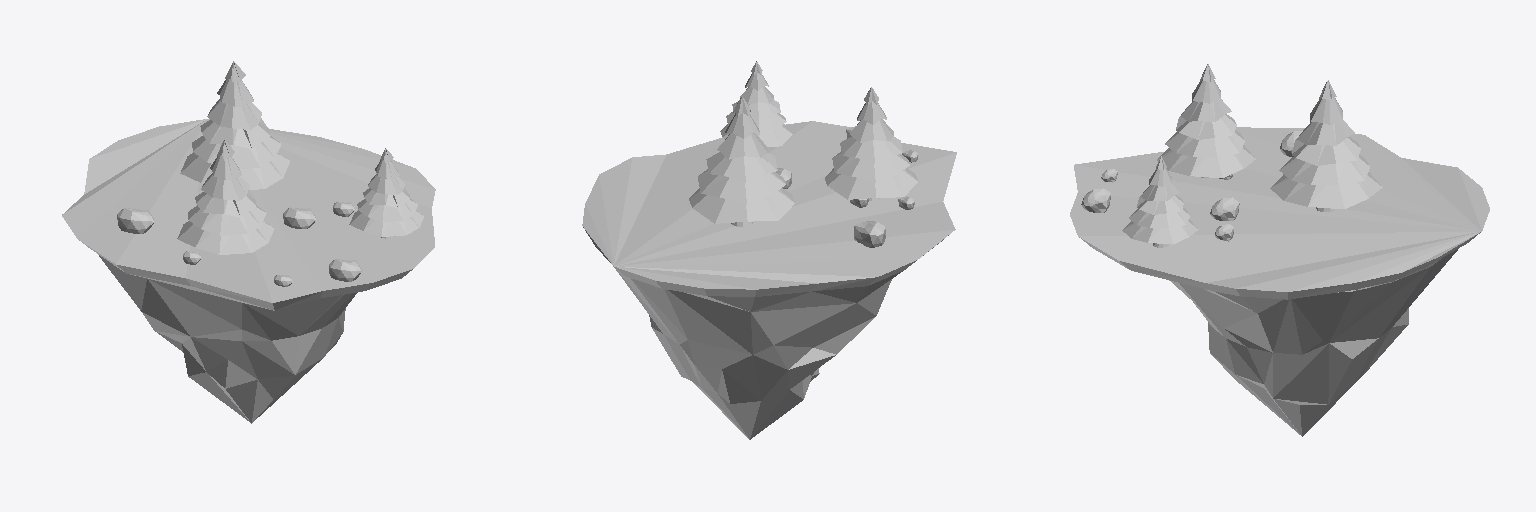
Rendered from Floating Island.obj.
3 renders of one model, left to right at view 1: azimuth 30°, elevation 25°; view 2: azimuth 150°, elevation 25°; view 3: azimuth 270°, elevation 25°, orthographic.
Parts seen in each view (by area): view 1: Island_Grass_Cylinder.004, Island_Cylinder.003, Tree_Behind_Plant_Cylinder.005, Tree_Mid_Plant_Cylinder.009, Tree_Foward_Plant_Cylinder.008, Icosphere.002, Icosphere.007, Icosphere.005; view 2: Island_Grass_Cylinder.004, Island_Cylinder.003, Tree_Behind_Plant_Cylinder.005, Tree_Mid_Plant_Cylinder.009, Tree_Foward_Plant_Cylinder.008, Icosphere.002; view 3: Island_Grass_Cylinder.004, Island_Cylinder.003, Tree_Behind_Plant_Cylinder.005, Tree_Mid_Plant_Cylinder.009, Tree_Foward_Plant_Cylinder.008, Icosphere.007, Icosphere.005.
Part boxes in pixels (bbox=[...]): Island_Grass_Cylinder.004: bbox=[62, 119, 435, 310]; Island_Cylinder.003: bbox=[99, 255, 357, 423]; Tree_Behind_Plant_Cylinder.005: bbox=[180, 61, 289, 189]; Tree_Mid_Plant_Cylinder.009: bbox=[177, 140, 274, 254]; Tree_Foward_Plant_Cylinder.008: bbox=[349, 148, 423, 236]; Icosphere.002: bbox=[117, 208, 153, 233]; Icosphere.007: bbox=[329, 259, 361, 281]; Icosphere.005: bbox=[283, 207, 315, 228]; Island_Grass_Cylinder.004: bbox=[582, 121, 956, 296]; Island_Cylinder.003: bbox=[613, 266, 902, 439]; Tree_Behind_Plant_Cylinder.005: bbox=[689, 96, 794, 223]; Tree_Mid_Plant_Cylinder.009: bbox=[825, 87, 917, 199]; Tree_Foward_Plant_Cylinder.008: bbox=[720, 61, 792, 146]; Icosphere.002: bbox=[854, 221, 885, 247]; Island_Grass_Cylinder.004: bbox=[1070, 127, 1489, 299]; Island_Cylinder.003: bbox=[1169, 249, 1457, 436]; Tree_Behind_Plant_Cylinder.005: bbox=[1270, 80, 1382, 208]; Tree_Mid_Plant_Cylinder.009: bbox=[1157, 64, 1255, 177]; Tree_Foward_Plant_Cylinder.008: bbox=[1122, 156, 1198, 244]; Icosphere.007: bbox=[1081, 188, 1110, 212]; Icosphere.005: bbox=[1210, 197, 1239, 220].
Bounding box in the file's own units: 5.89 × 6.07 × 6.52.